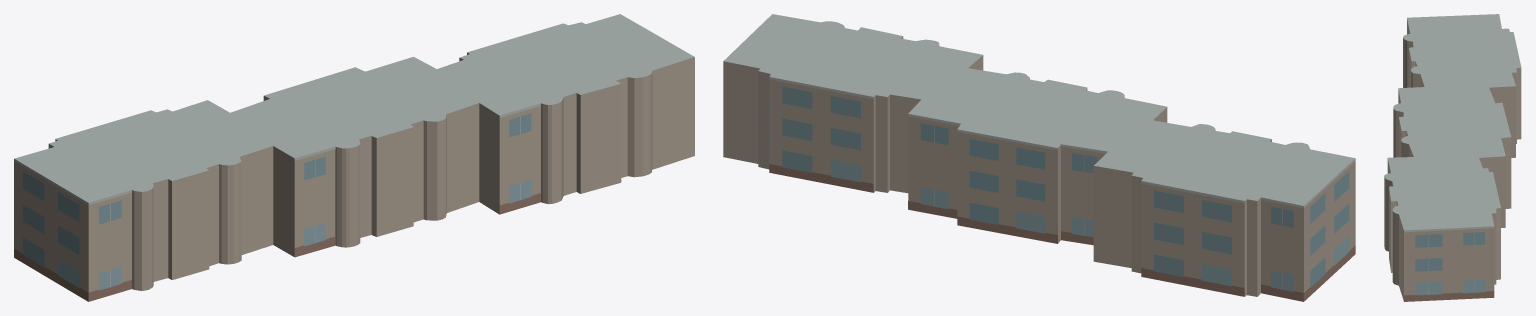
Rendered from survey-upis-32945751.glb.
3 renders of one model, left to right at view 1: azimuth 30°, elevation 25°; view 2: azimuth 150°, elevation 25°; view 3: azimuth 270°, elevation 25°, orthographic. The views are drawn at different scales.
Parts seen in each view (by area): view 1: survey-upis-32945751.tmp; view 2: survey-upis-32945751.tmp; view 3: survey-upis-32945751.tmp.
Boxes of the visible parts, x1,y1,x2,y2 form: survey-upis-32945751.tmp: (14,14,694,301); survey-upis-32945751.tmp: (723,14,1355,301); survey-upis-32945751.tmp: (1384,14,1521,301).
Bounding box in the file's own units: 59.44 × 9.15 × 15.9.
